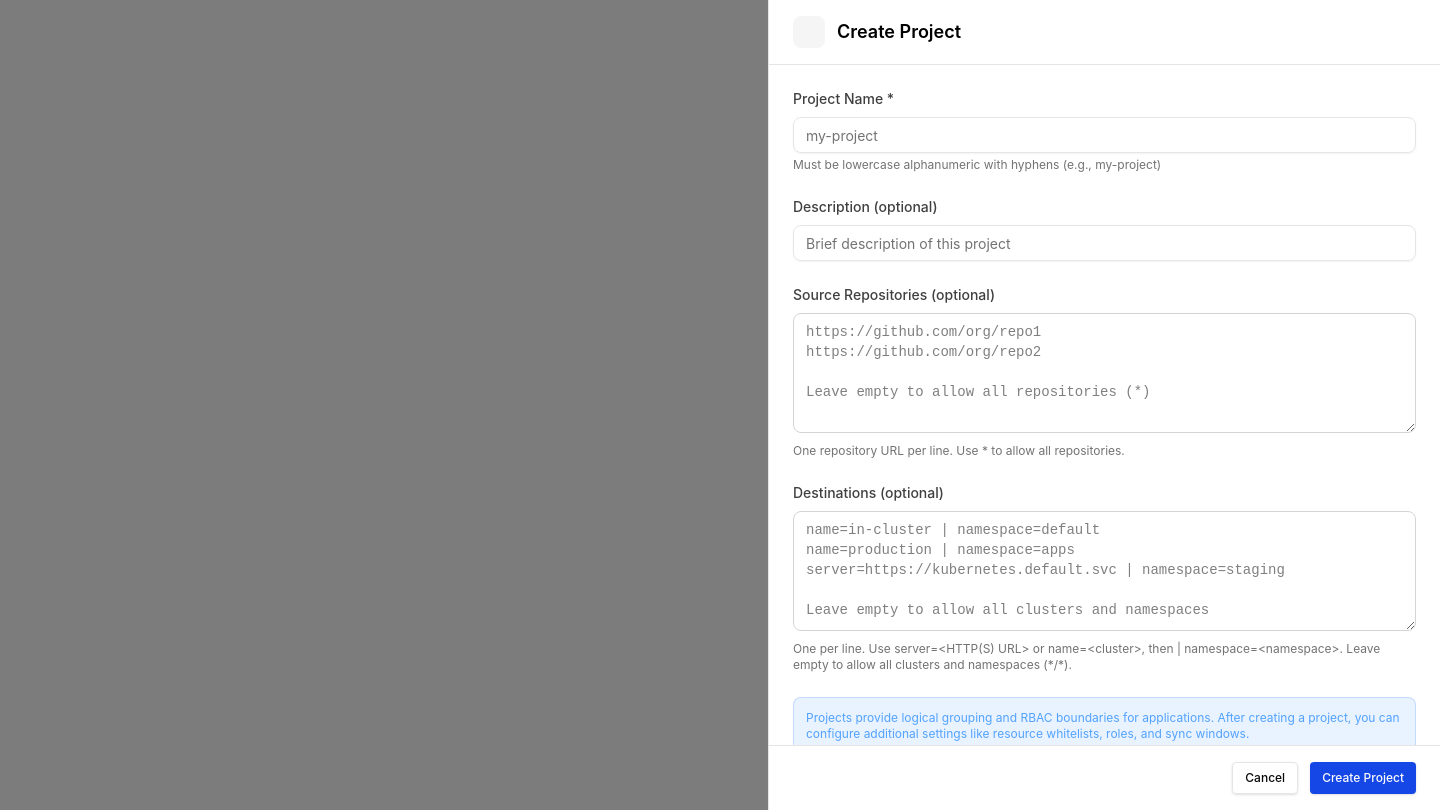
Test: CreateProjectPanel destinations › shows ambiguous destination input as a field error without submitting
In the field with placeholder "my-project": (1104, 135) [793,117,1416,153], type "platform"
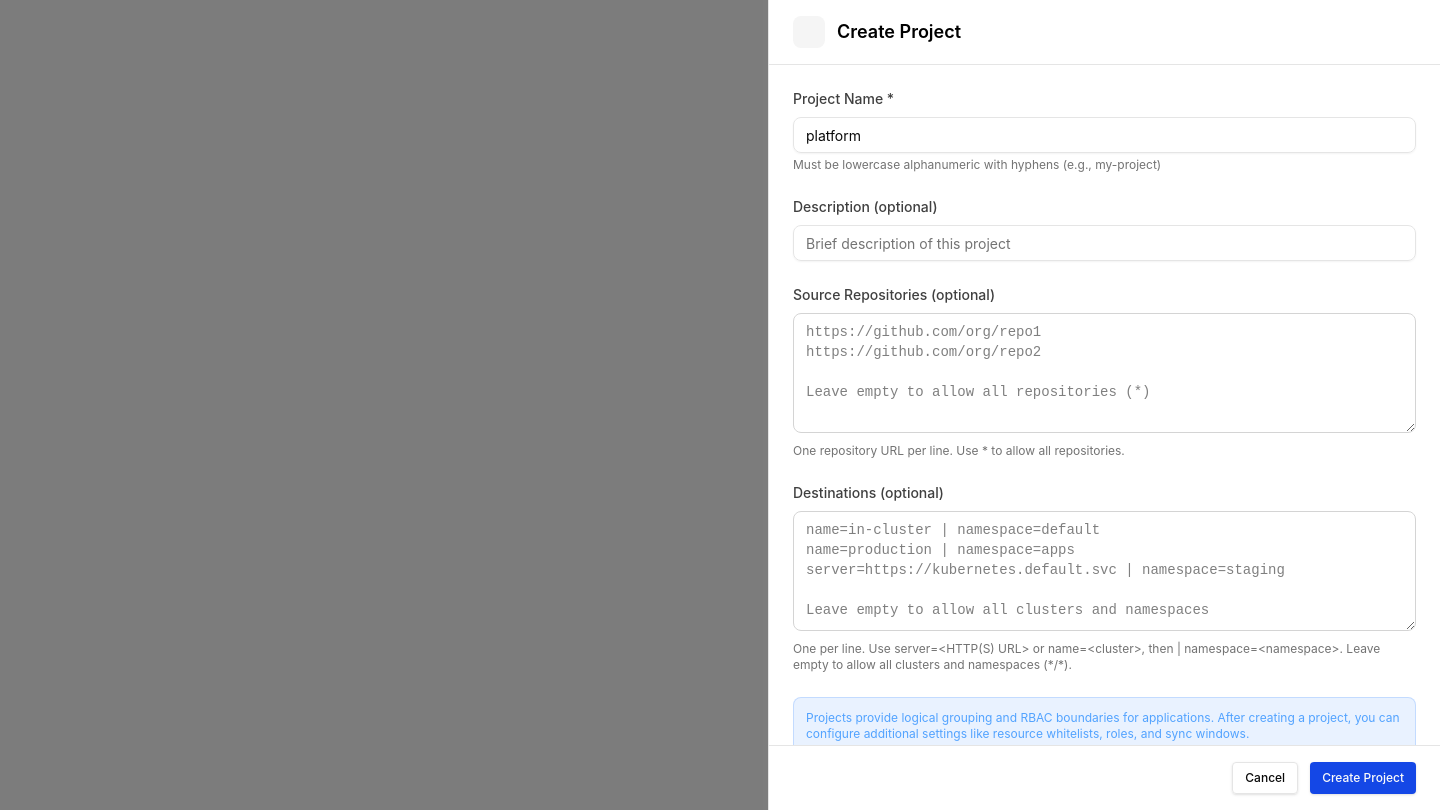
Replace the text in the text box labelled "Destinations (optional)" with "in-cluster/default": (1104, 571) [793,511,1416,631]
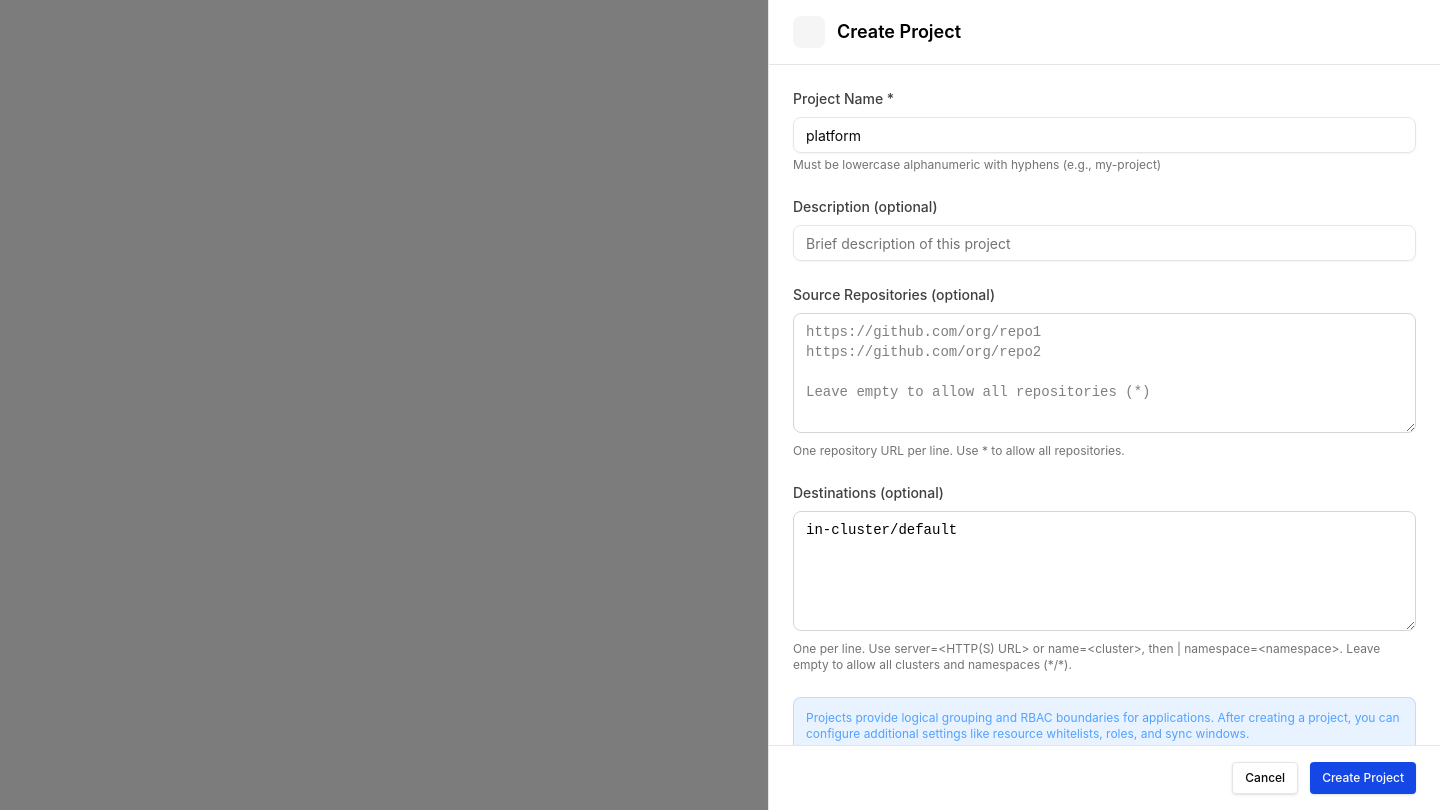
Click the button "Create Project": (1363, 778) [1310,762,1416,794]
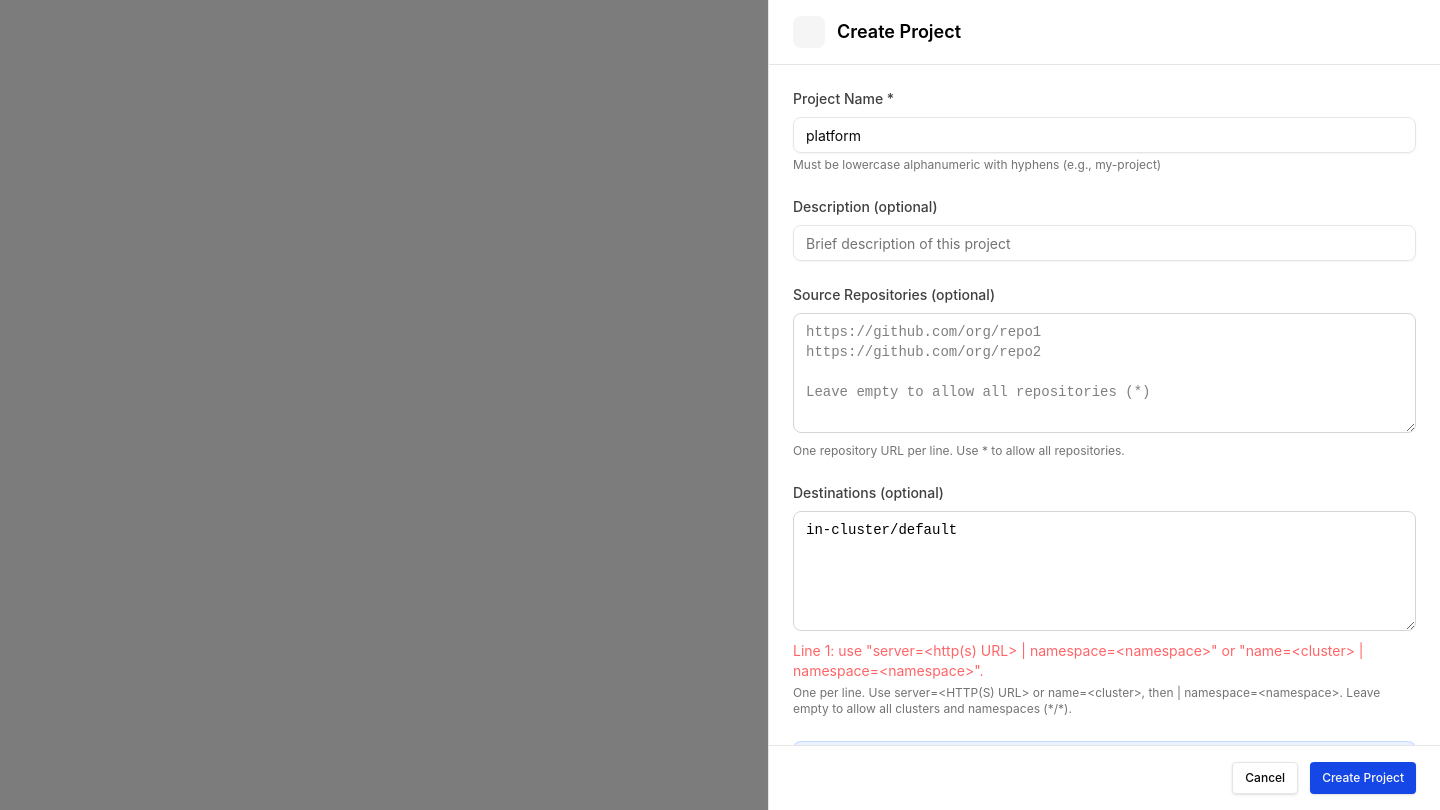
Result: the text "Line 1: use \"server=" is shown at [793,642,1364,679]
